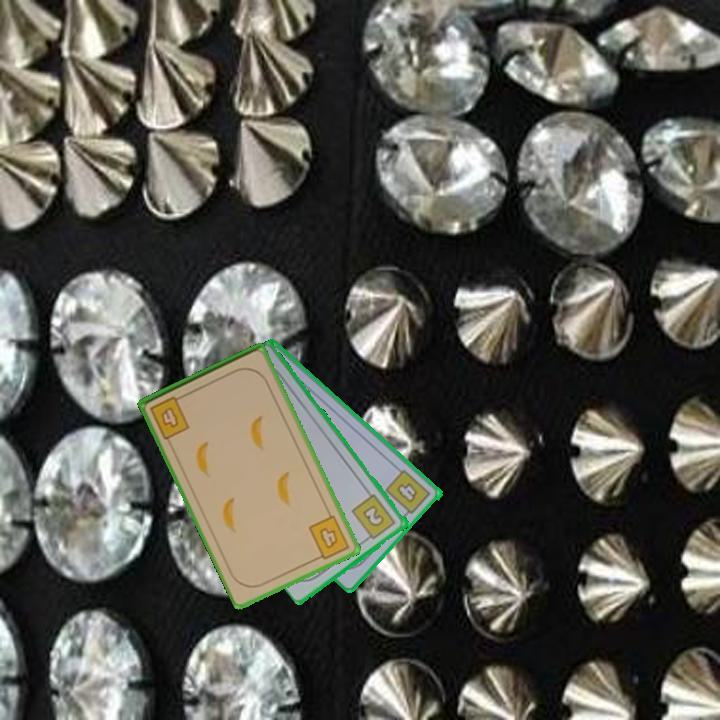2b: (348, 491, 399, 544)
4b: (382, 466, 434, 521), (305, 512, 353, 563), (147, 391, 193, 442)
